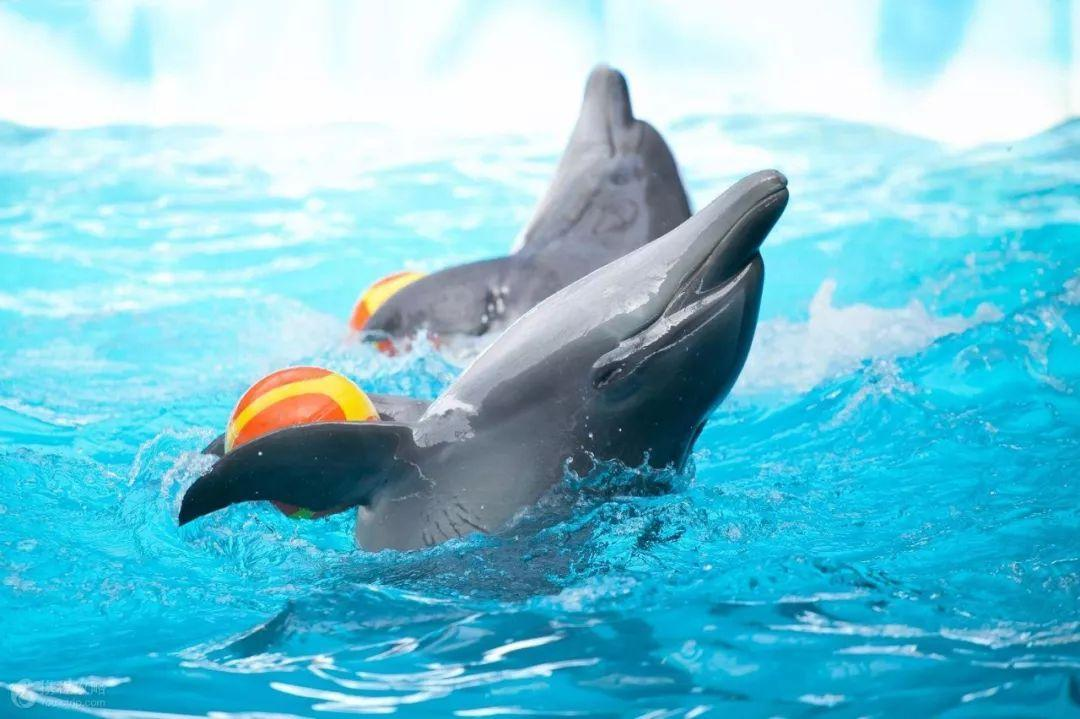fish: (170, 165, 801, 603), (353, 60, 705, 372)
